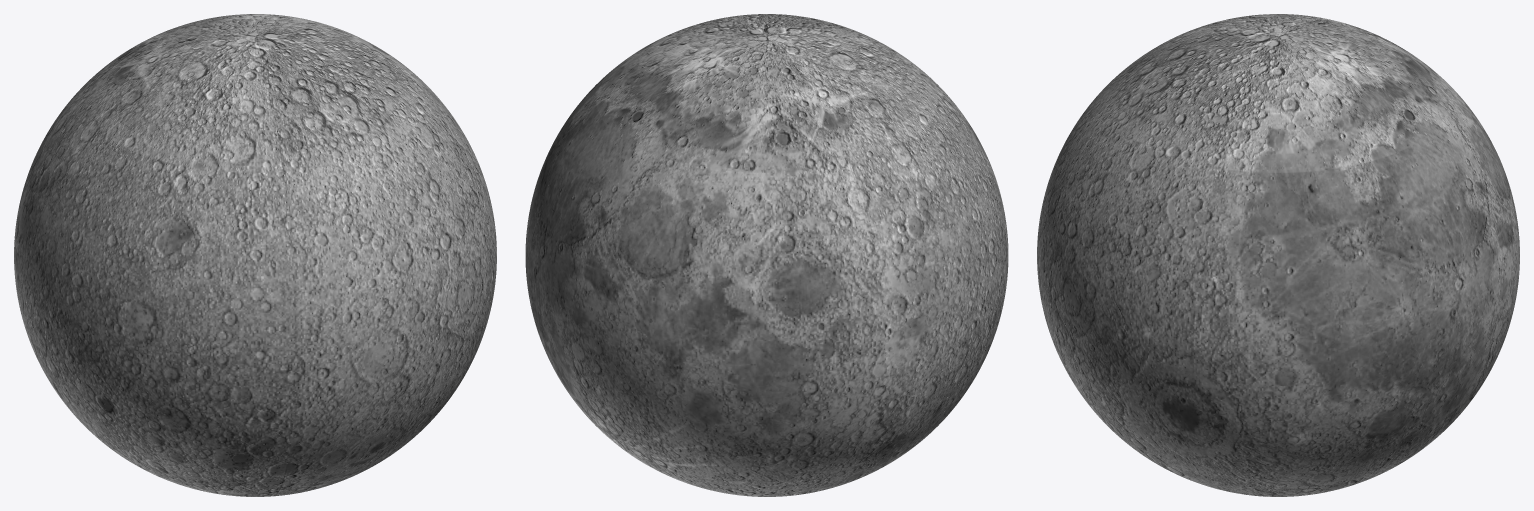
File: Moon.obj
3 renders of one model, left to right at view 1: azimuth 30°, elevation 25°; view 2: azimuth 150°, elevation 25°; view 3: azimuth 270°, elevation 25°, orthographic.
Parts seen in each view (by area): view 1: moon; view 2: moon; view 3: moon.
Boxes of the visible parts, left/top/right/bottom form: moon: left=14, top=14, right=496, bottom=496; moon: left=525, top=14, right=1008, bottom=496; moon: left=1037, top=14, right=1519, bottom=496.
Bounding box in the file's own units: 6.44 × 6.44 × 6.44.
